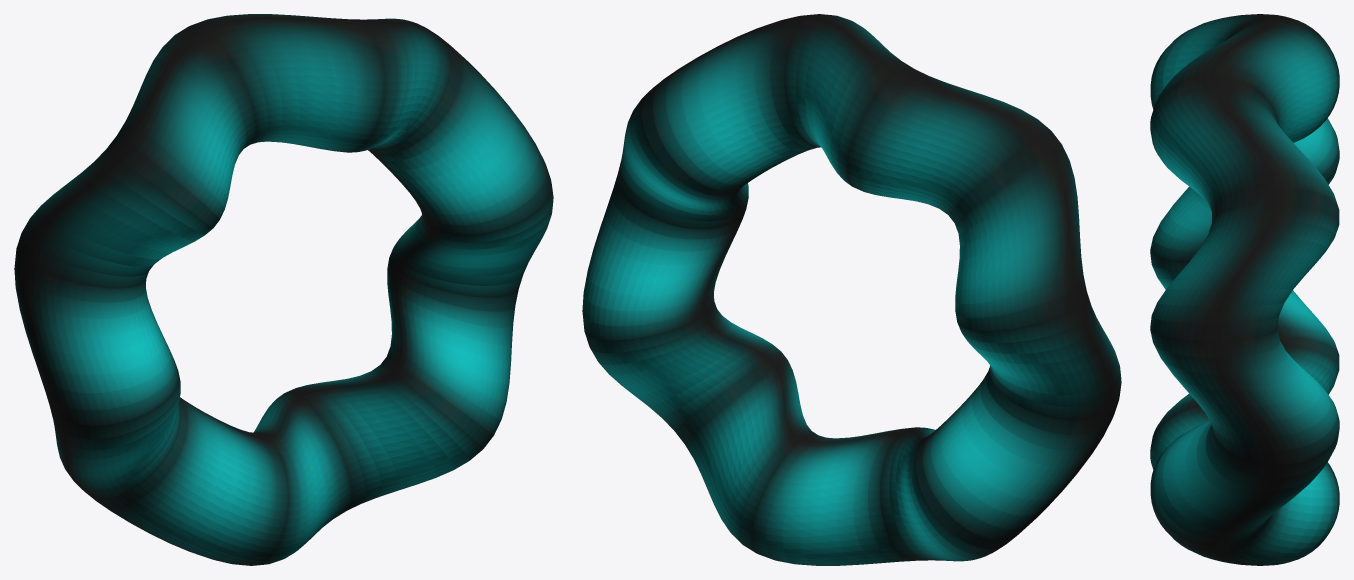
File: step_7.glb
The picture shows the model from 3 angles, left to right: view 1: azimuth 30°, elevation 25°; view 2: azimuth 150°, elevation 25°; view 3: azimuth 270°, elevation 25°; orthographic projection. The views are drawn at different scales.
Parts seen in each view (by area): view 1: world; view 2: world; view 3: world.
Part boxes in pixels (x1=…): world: x1=14, y1=14, x2=553, y2=565; world: x1=582, y1=14, x2=1121, y2=565; world: x1=1150, y1=14, x2=1339, y2=565.
Bounding box in the file's own units: 26 × 26 × 8.93.
